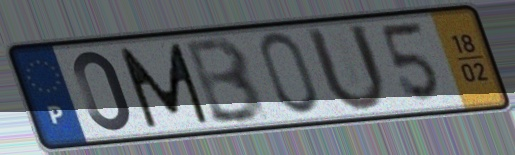0: (256, 29, 324, 120), (70, 48, 134, 134)
5: (374, 22, 445, 107)
B: (183, 33, 269, 126)
M: (114, 40, 213, 131)
U: (301, 21, 391, 116)
